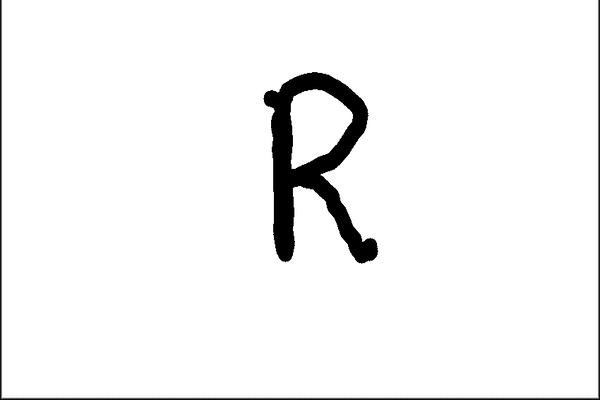R: (240, 55, 391, 277)
